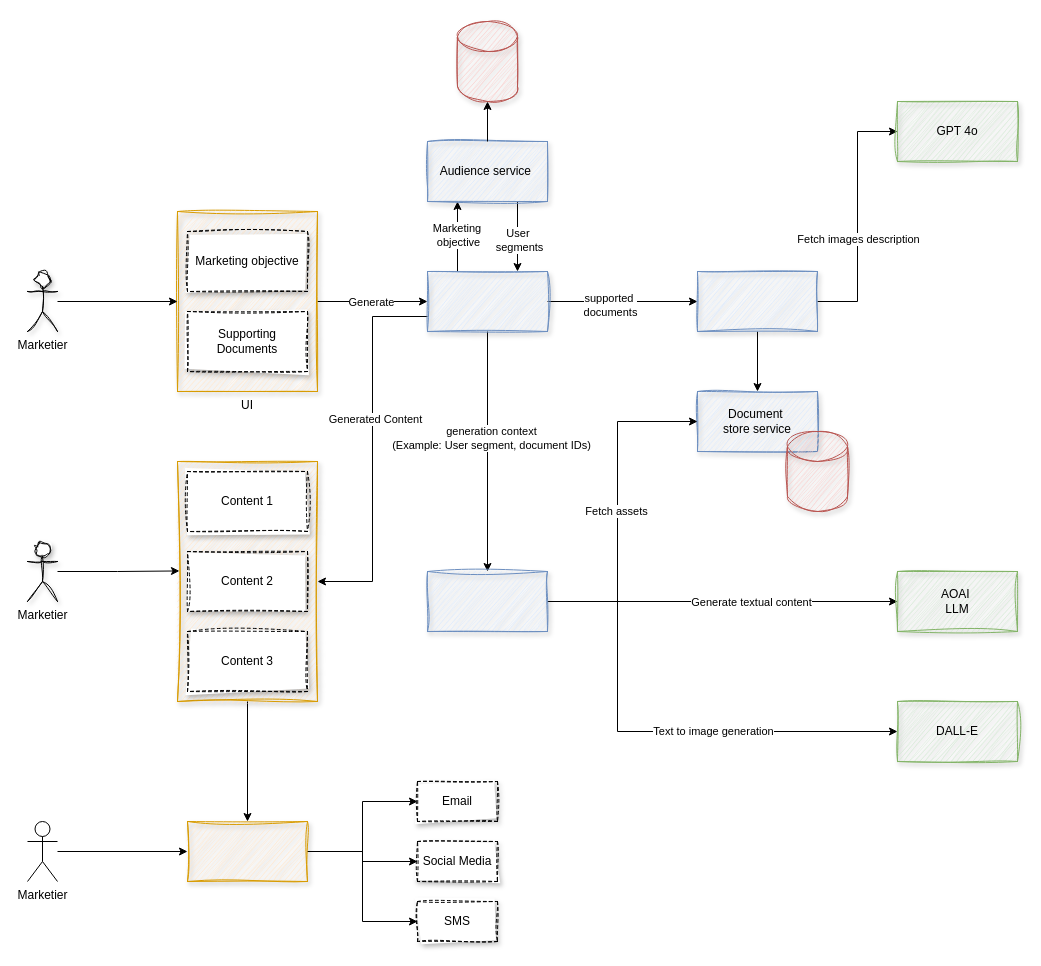
The diagram is 1041 pixels wide and 966 high, and some of its shapes have lost their labels. The centre of each missing label's shape, as x and y in pixels:
BobG: the point at 488,302
Content generation service: the point at 488,602
Document processing service: the point at 758,302
PG Vector DB: the point at 818,472
Review Content: the point at 248,852
User profiles: the point at 488,62
